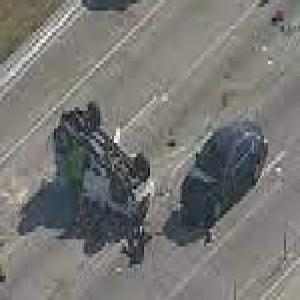fatal: (56, 96, 154, 228)
